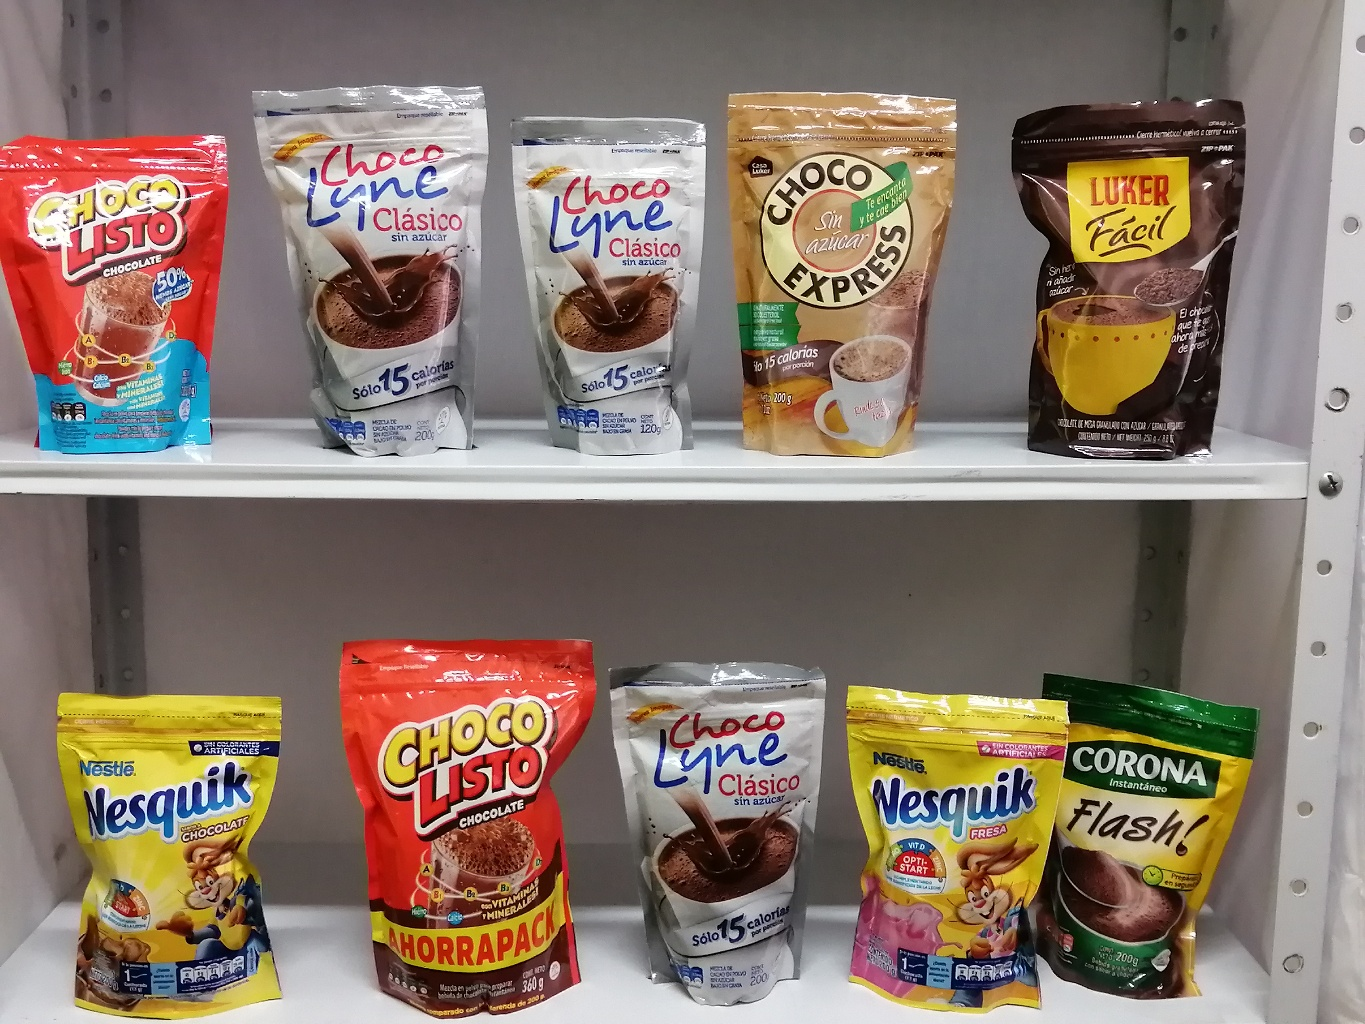COL0170103DYP36000: (323, 621, 601, 1023)
COL0170104DYP20000: (1, 123, 250, 461)
COL0170303DYP20000: (41, 679, 303, 1021)
COL0170305DYP20000: (834, 677, 1065, 1016)
